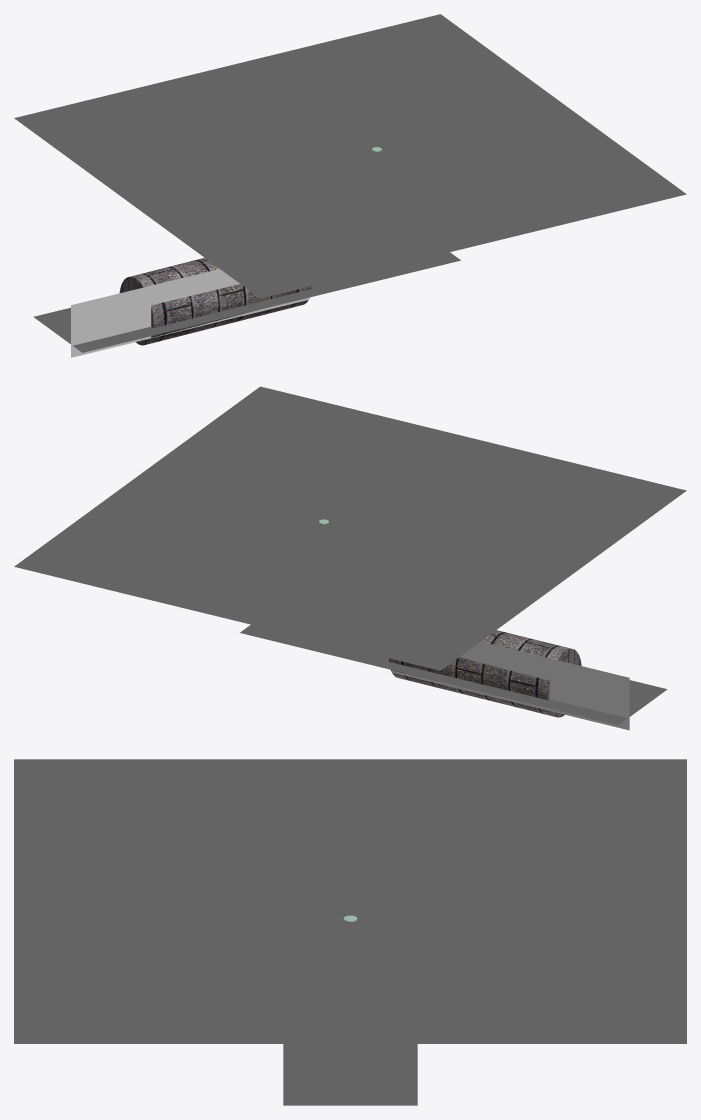
3 renders of one model, top to bottom at view 1: azimuth 30°, elevation 25°; view 2: azimuth 150°, elevation 25°; view 3: azimuth 270°, elevation 25°, orthographic. The views are drawn at different scales.
Visible parts, largest first — view 1: floor, wall.001, tunnel, floor.001; view 2: floor, wall, tunnel, floor.001; view 3: floor, floor.001.
Part boxes in pixels (box(x1,y1,x2,y2)): floor: box(14, 14, 686, 298); wall.001: box(71, 269, 308, 357); tunnel: box(119, 258, 311, 345); floor.001: box(33, 252, 460, 352); floor: box(14, 386, 686, 670); wall: box(391, 641, 629, 730); tunnel: box(389, 630, 581, 717); floor.001: box(240, 624, 667, 725); floor: box(14, 759, 686, 1043); floor.001: box(283, 1044, 417, 1105).
Bounding box in the file's own units: 595 × 151 × 500.
Materials: 3 (1 with a texture image).
